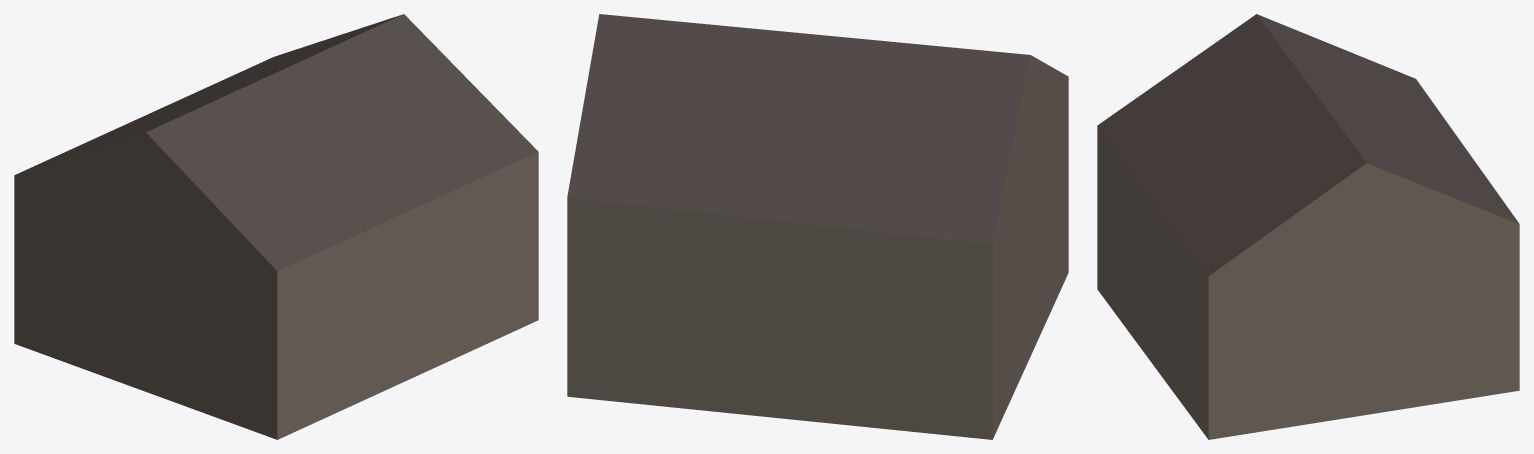
The picture shows the model from 3 angles, left to right: view 1: azimuth 30°, elevation 25°; view 2: azimuth 150°, elevation 25°; view 3: azimuth 270°, elevation 25°; orthographic projection. The views are drawn at different scales.
Parts seen in each view (by area): view 1: HP-w1196657315; view 2: HP-w1196657315; view 3: HP-w1196657315.
Boxes of the visible parts, x1,y1,x2,y2 form: HP-w1196657315: (14, 14, 538, 439); HP-w1196657315: (567, 14, 1068, 439); HP-w1196657315: (1097, 14, 1519, 439).
Size of the model in its own units: 15.54 by 9.24 by 14.05.
